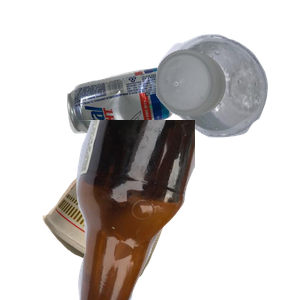glass: (60, 120, 300, 300)
metal: (65, 65, 231, 192)
plastic: (153, 31, 300, 161)
trash: (40, 121, 221, 300)
